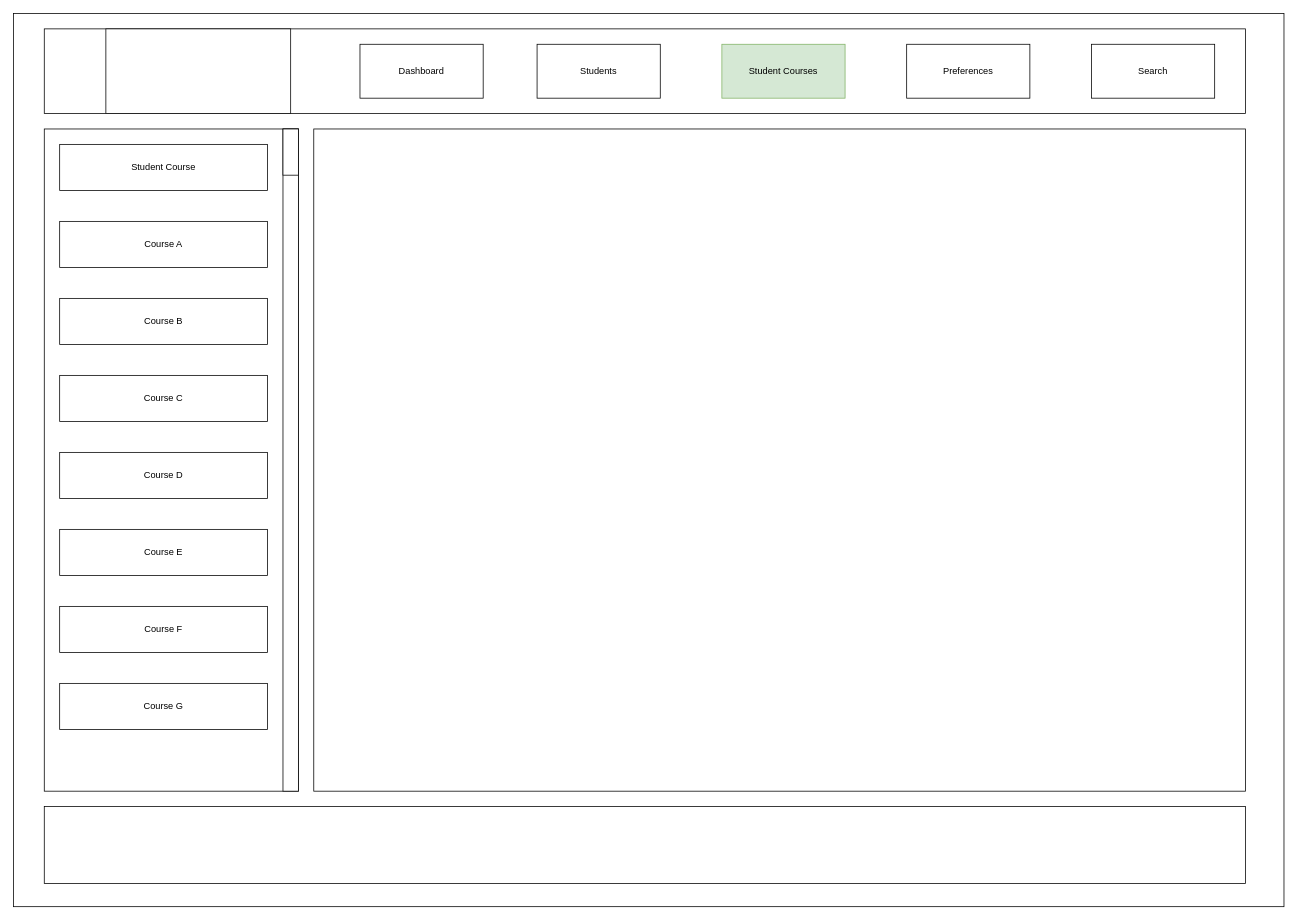
This 1297x920 diagram has some shape labels left out. The shapes that lost their labels are listed below. From the top down, each one's box as (x1, y1, x2, y2) in pixels, then its label:
(105, 28, 291, 114): Logo
(313, 128, 1245, 791): Students in a specific course Arranged in a basic bootstrap table
(44, 806, 1245, 884): Footer
